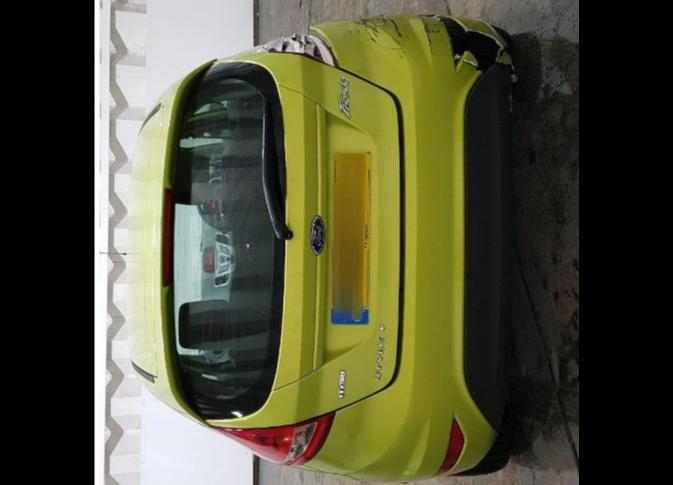Broken part: (305, 12, 506, 483), (250, 26, 340, 69)
Paint chip: (361, 18, 400, 45), (365, 28, 402, 50), (420, 15, 433, 53), (350, 18, 380, 34), (386, 16, 402, 36), (374, 14, 387, 23), (397, 51, 404, 60), (371, 29, 378, 37), (431, 29, 441, 33), (394, 35, 408, 37), (374, 23, 387, 25), (401, 50, 405, 55), (346, 29, 351, 33), (358, 29, 360, 34), (433, 23, 437, 25), (345, 22, 348, 24)
